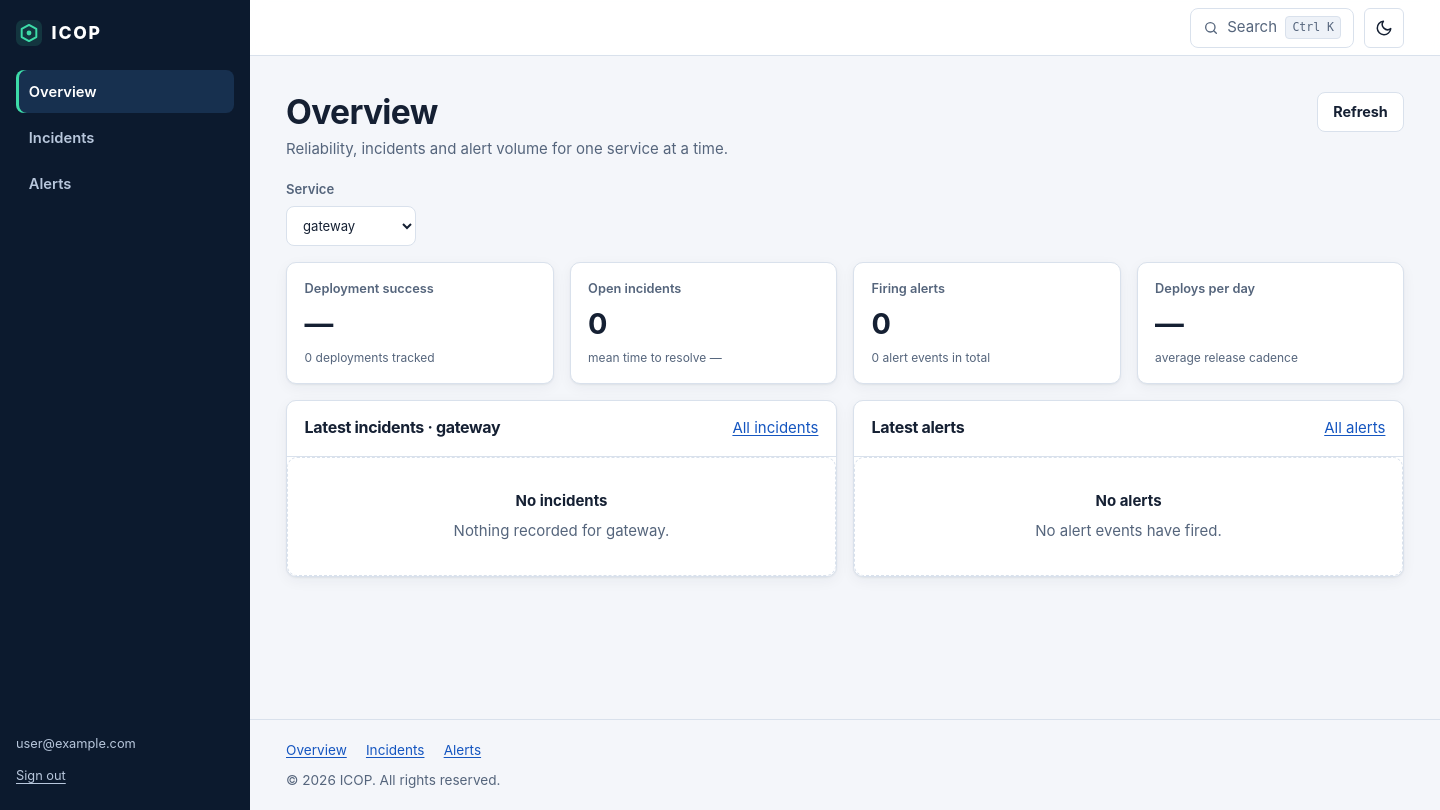
Test case: mobile menu, theme, search, chrome › searches pages and actions with Ctrl+K and navigates with the keyboard
Expected: the heading "Overview" is shown, [286,91,438,132]
Type keys "{Control>}k{/Control}"
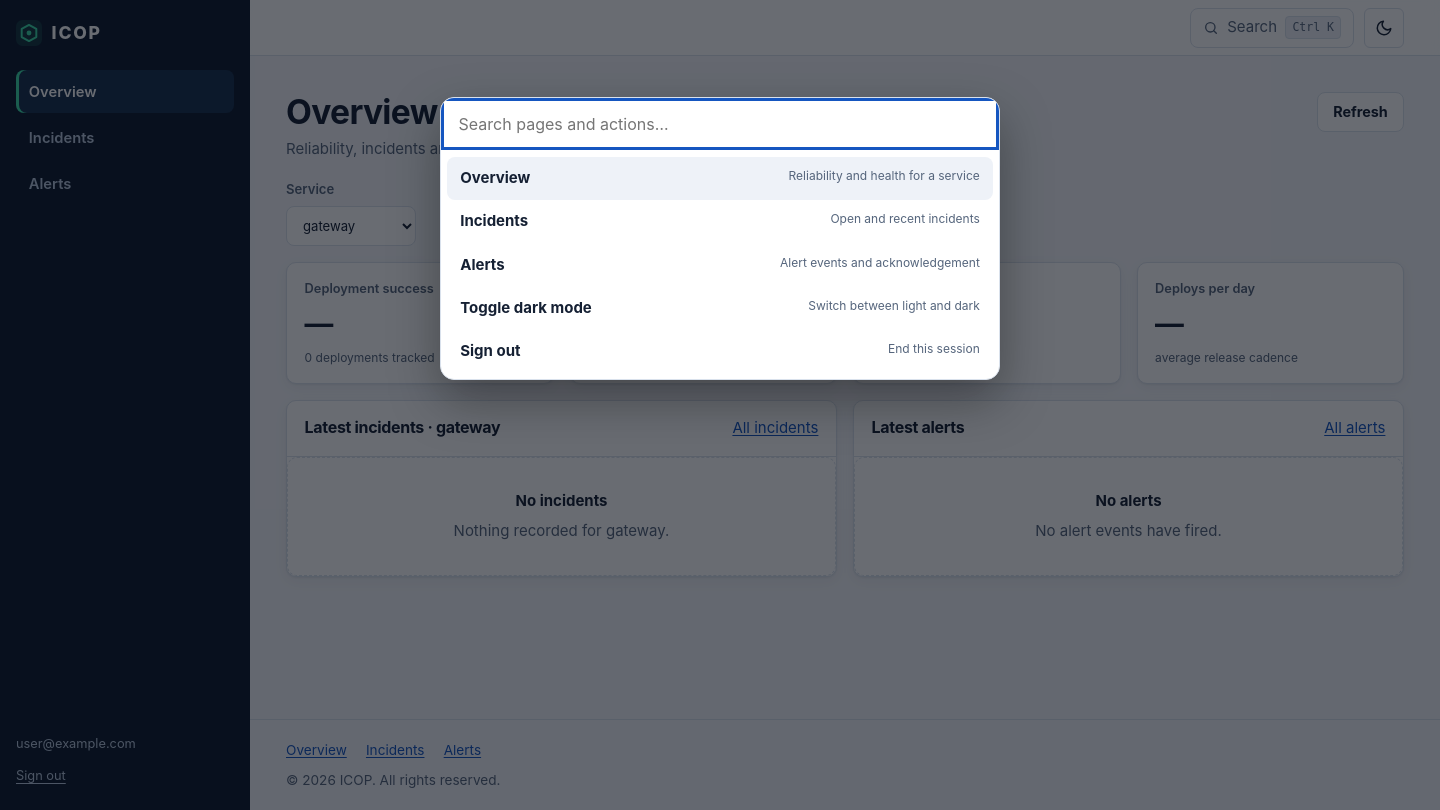
In the dropdown labelled "Search pages and actions": (720, 124) [441,98,999,150], type "incid"
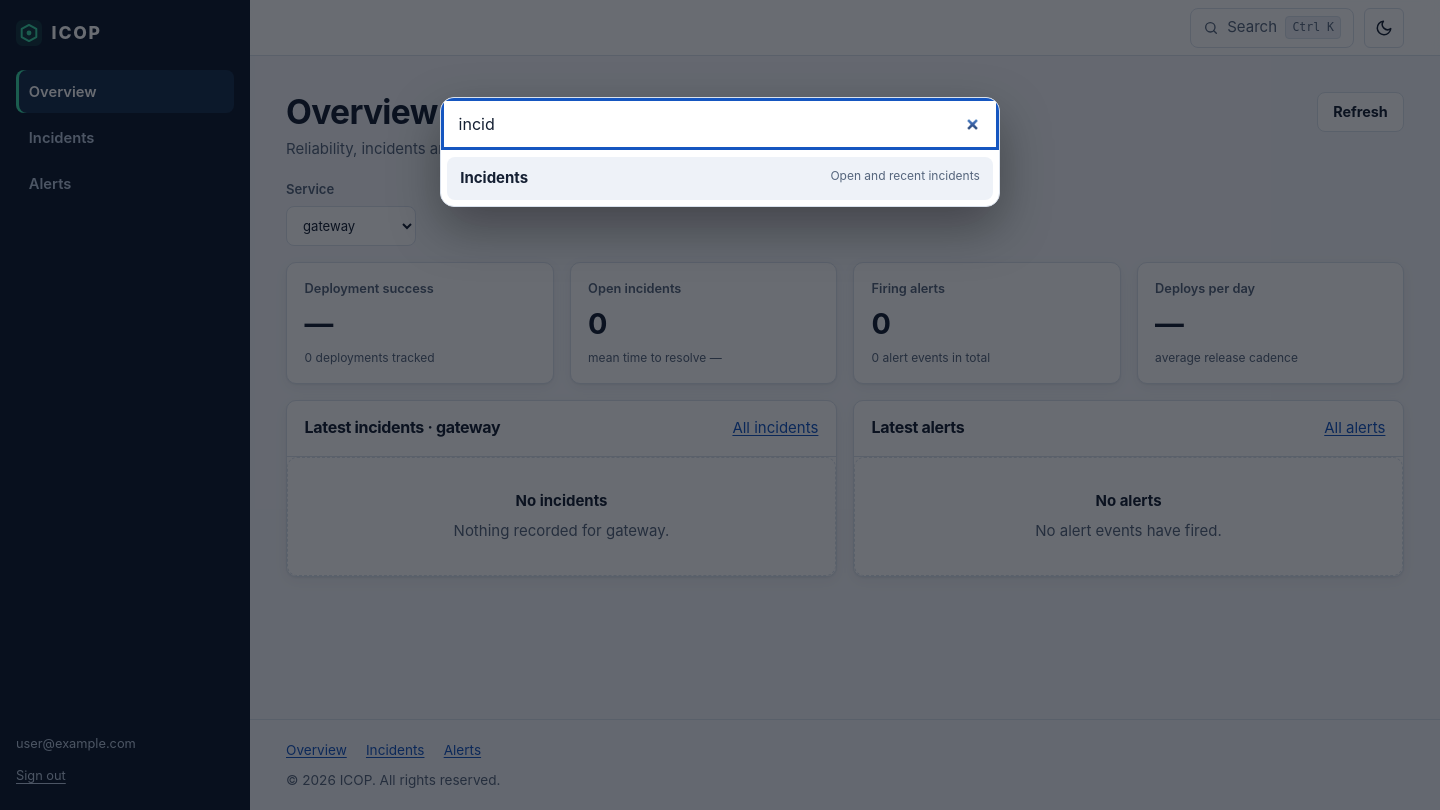
Press Enter
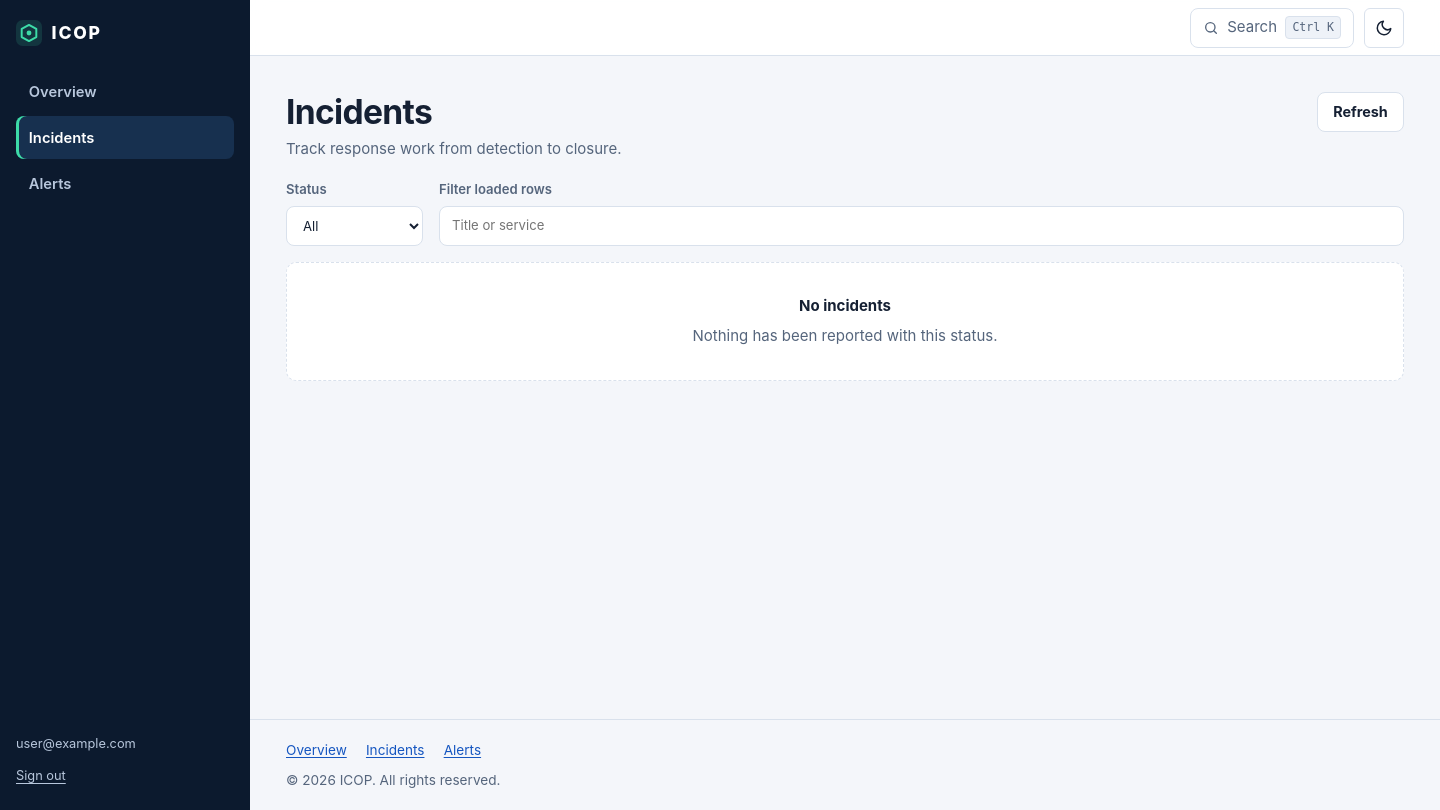
Now the heading "Incidents" is shown, box [286,91,432,132]
Now the dialog is gone
